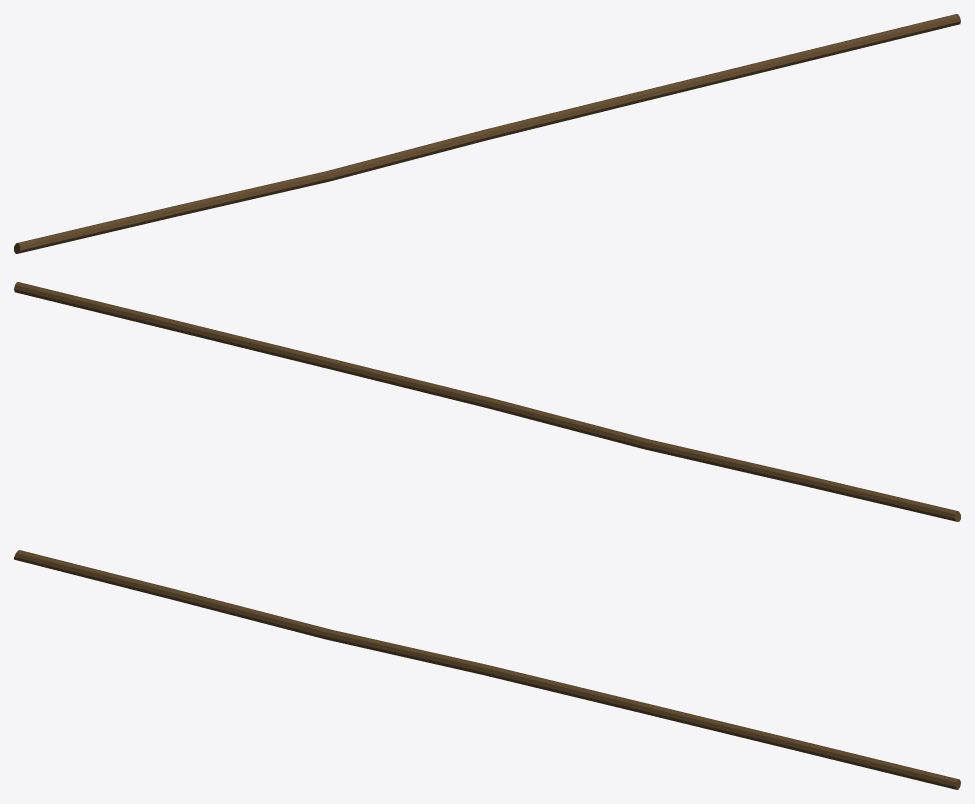
The model's file is Rope.fbx.
The picture shows the model from 3 angles, top to bottom: view 1: azimuth 30°, elevation 25°; view 2: azimuth 150°, elevation 25°; view 3: azimuth 330°, elevation 25°; orthographic projection.
Parts seen in each view (by area): view 1: rope; view 2: rope; view 3: rope.
Part boxes in pixels (x1,y1,x2,y2): rope: (14,14,960,253); rope: (14,282,960,521); rope: (14,550,960,789).
Bounding box in the file's own units: 723 × 10.16 × 7.55.
